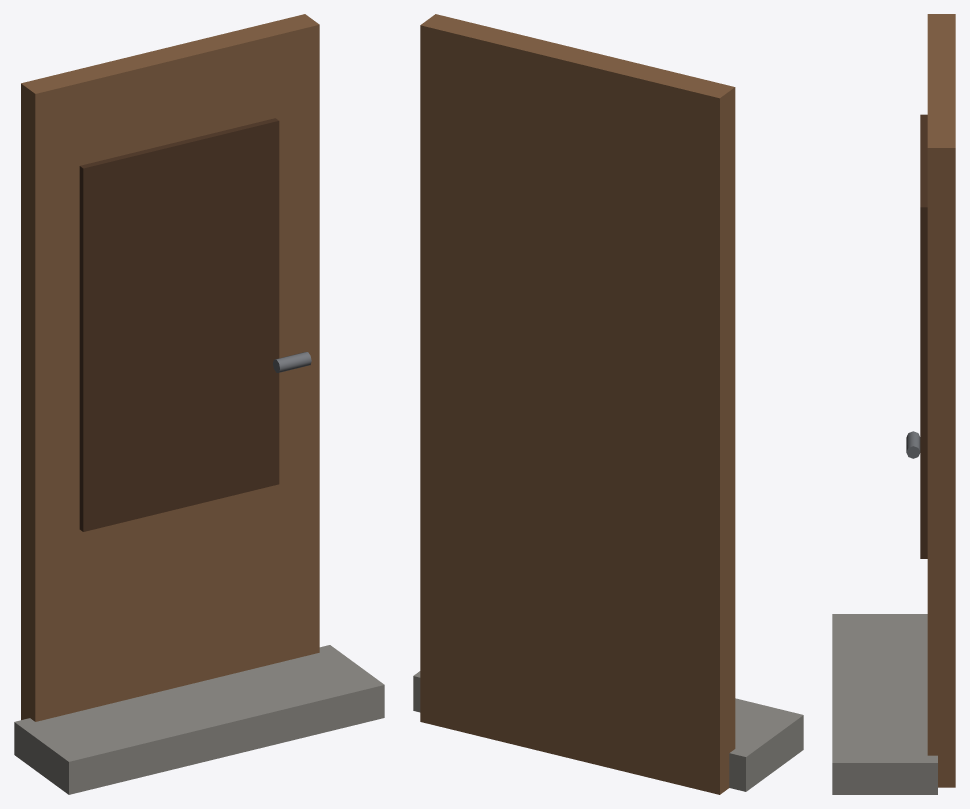
The model's file is SM_P1_House_Door_A.obj.
3 views of the same model, side by side, from view 1: azimuth 30°, elevation 25°; view 2: azimuth 150°, elevation 25°; view 3: azimuth 270°, elevation 25° (orthographic). The views are drawn at different scales.
Visible parts, largest first — view 1: leaf, panel, step; view 2: leaf, step; view 3: leaf, step, panel, handle.
Boxes of the visible parts, x1,y1,x2,y2 form: leaf: (21, 14, 319, 721); panel: (79, 118, 279, 531); step: (14, 645, 384, 794); leaf: (420, 14, 735, 794); step: (413, 671, 803, 791); leaf: (927, 14, 955, 787); step: (832, 614, 937, 794); panel: (920, 114, 927, 558); handle: (906, 431, 920, 458).
Bounding box in the file's own units: 1 × 2 × 0.35.
